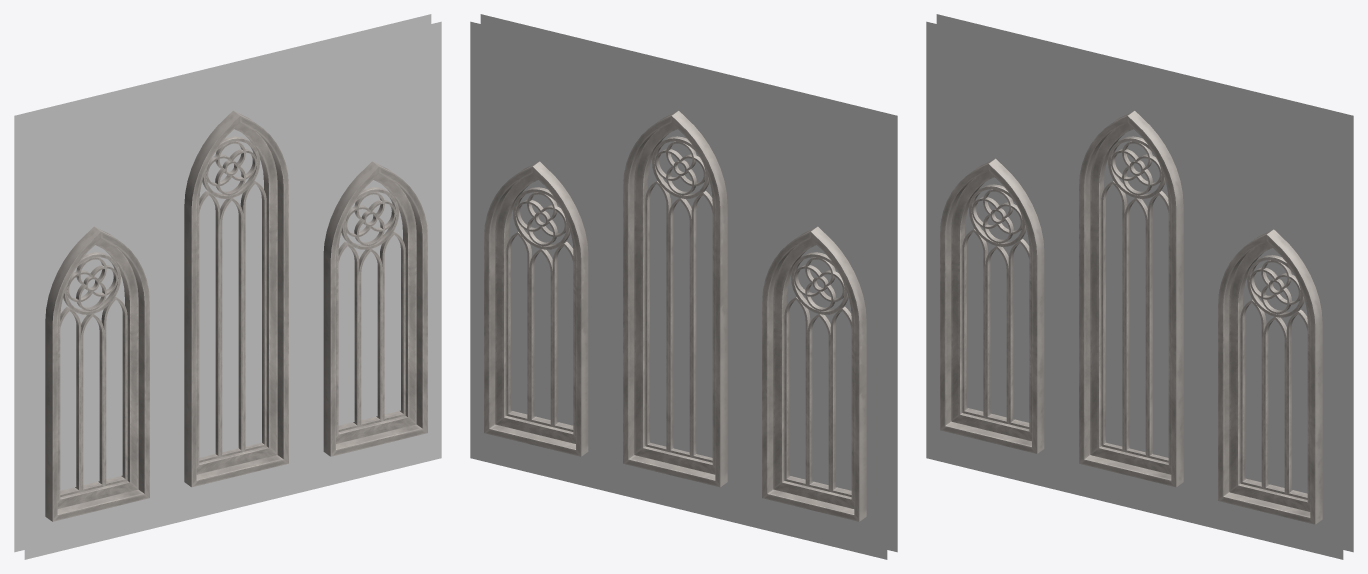
File: Wall_Window_J_C.fbx
3 views of the same model, side by side, from view 1: azimuth 30°, elevation 25°; view 2: azimuth 150°, elevation 25°; view 3: azimuth 330°, elevation 25° (orthographic).
Parts seen in each view (by area): view 1: Wall_Window_J_C; view 2: Wall_Window_J_C; view 3: Wall_Window_J_C.
Boxes of the visible parts, left/top/right/bottom form: Wall_Window_J_C: left=14, top=14, right=441, bottom=559; Wall_Window_J_C: left=470, top=14, right=897, bottom=559; Wall_Window_J_C: left=926, top=14, right=1353, bottom=559.
Bounding box in the file's own units: 6 × 0.6118 × 6.03.
